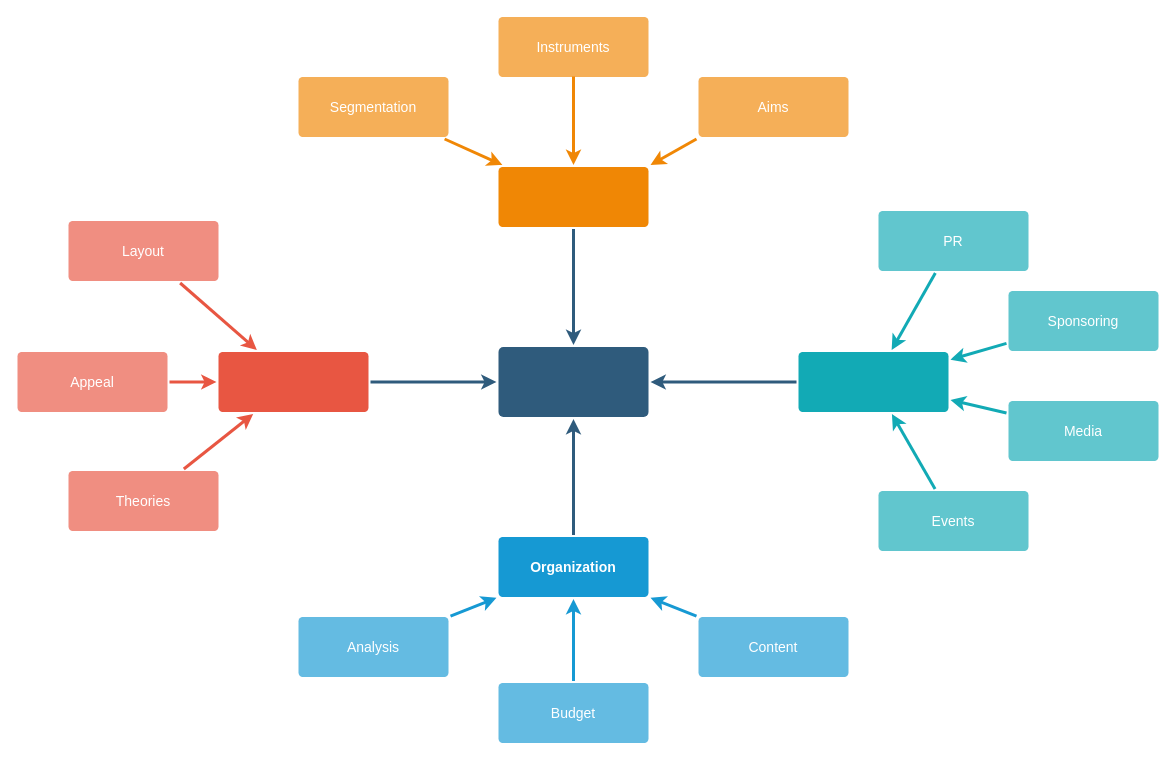
This 1175x760 diagram has some shape labels left out. The centre of each missing label's shape, as x and y in pixels:
"Communication" goes at (873,382).
"Consideration" goes at (573,196).
"Conversion" goes at (573,381).
"UX" goes at (293,382).
